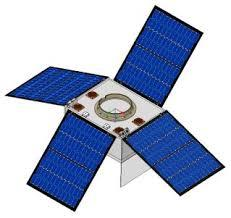body: (65, 76, 169, 190)
solar: (24, 108, 118, 214), (112, 3, 206, 108), (120, 108, 227, 198), (3, 64, 112, 108)
